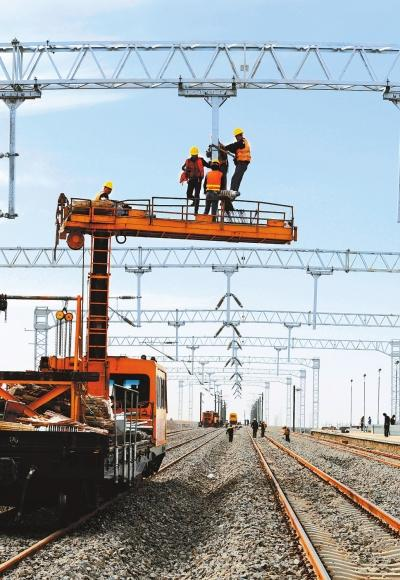helmet: (101, 177, 117, 197), (233, 125, 249, 145), (188, 144, 201, 163)
